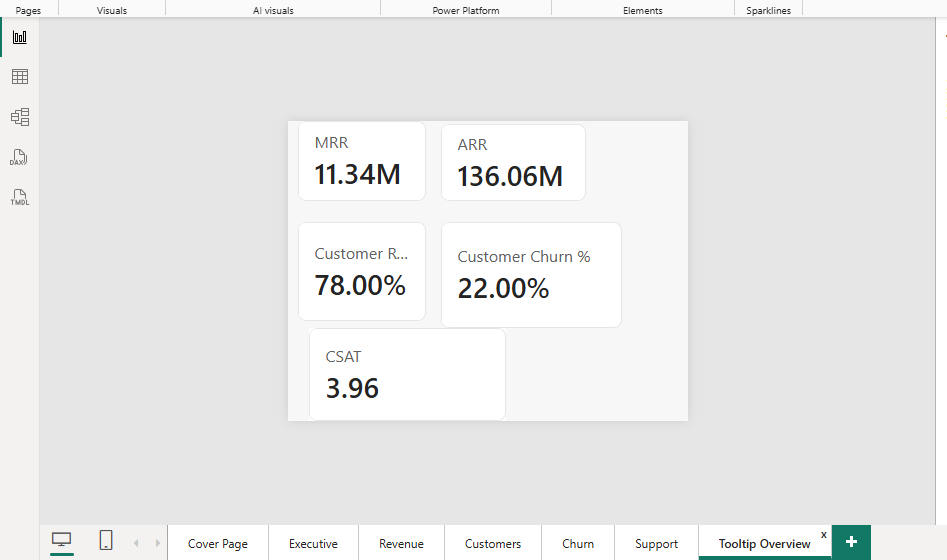

The page's visual inventory and layout, read from the dashboard file:
{"tool":"powerbi","page":{"name":"Tooltip Overview","canvas":[400,300],"ordinal":6},"visuals":[{"type":"cardVisual","fields":{"Data":["dim_accounts.MRR"]},"box":[10,0,128,80],"z":0},{"type":"cardVisual","fields":{"Data":["dim_accounts.ARR"]},"box":[153,3,145,77],"z":1},{"type":"cardVisual","fields":{"Data":["dim_accounts.Customer Retention %"]},"box":[10,101,128,99],"z":2},{"type":"cardVisual","fields":{"Data":["dim_accounts.Customer Churn %"]},"box":[153,101,181,106],"z":3},{"type":"cardVisual","fields":{"Data":["dim_accounts.CSAT"]},"box":[21,207,197,93],"z":4}]}

Visuals, with their boxes on the page's 400x300 design canvas (x1, y1, x2, y2). These are canvas units, not pixel positions in the 947x560 screenshot, which may show the page scaled, cropped or inside an application window:
cardVisual - dim_accounts.MRR: [left=10, top=0, right=138, bottom=80]
cardVisual - dim_accounts.ARR: [left=153, top=3, right=298, bottom=80]
cardVisual - dim_accounts.Customer Retention %: [left=10, top=101, right=138, bottom=200]
cardVisual - dim_accounts.Customer Churn %: [left=153, top=101, right=334, bottom=207]
cardVisual - dim_accounts.CSAT: [left=21, top=207, right=218, bottom=300]
